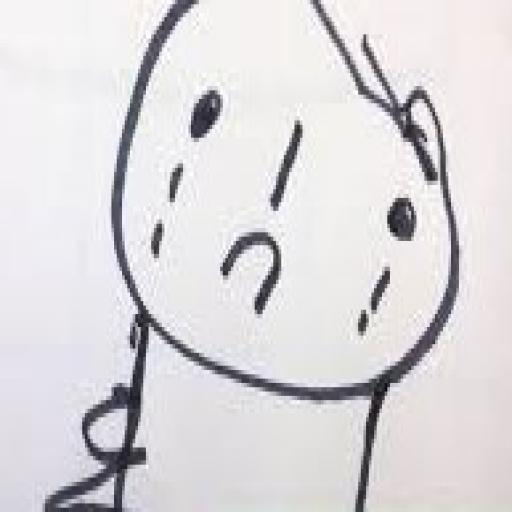person: (44, 0, 460, 508)
